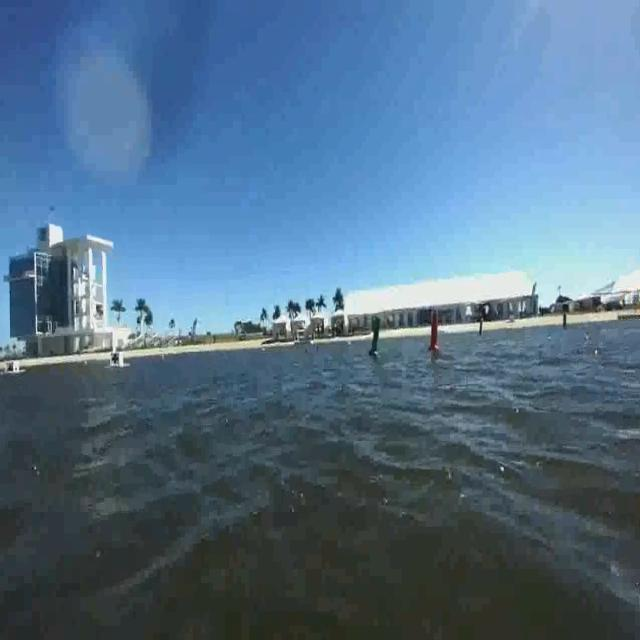green-column-buoy: (368, 316, 382, 358)
red-column-buoy: (428, 313, 440, 353)
